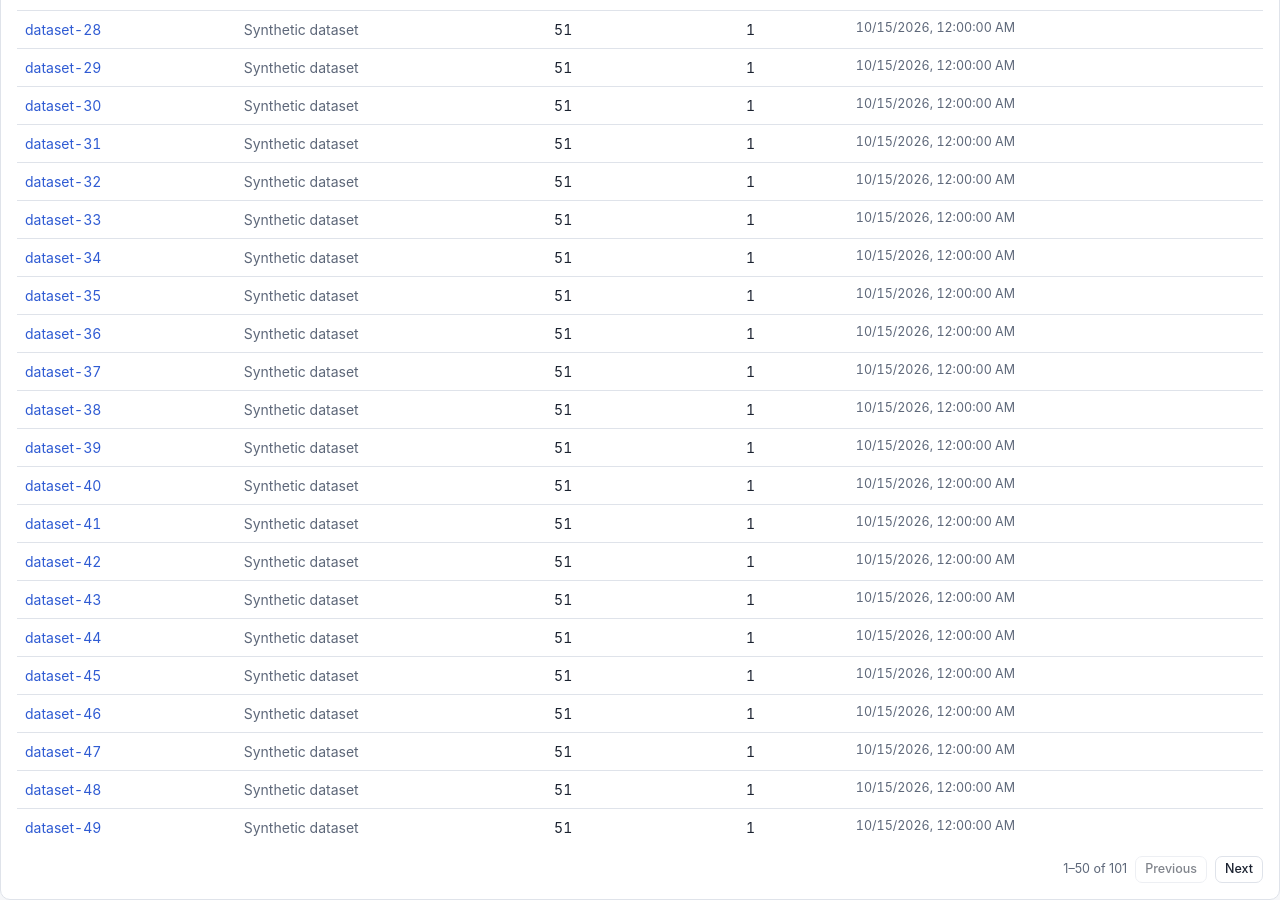
Scenario: datasets pagination › uses bounded pages with Previous/Next and keeps dataset navigation links
This screenshot has width=1280, height=900.
(page scrolled)
Check: the text "1–50 of 101" is shown, box [1063,860,1127,879]
Click the button with aria-label "Next page".
click(1239, 870)  # box [1215,856,1263,883]
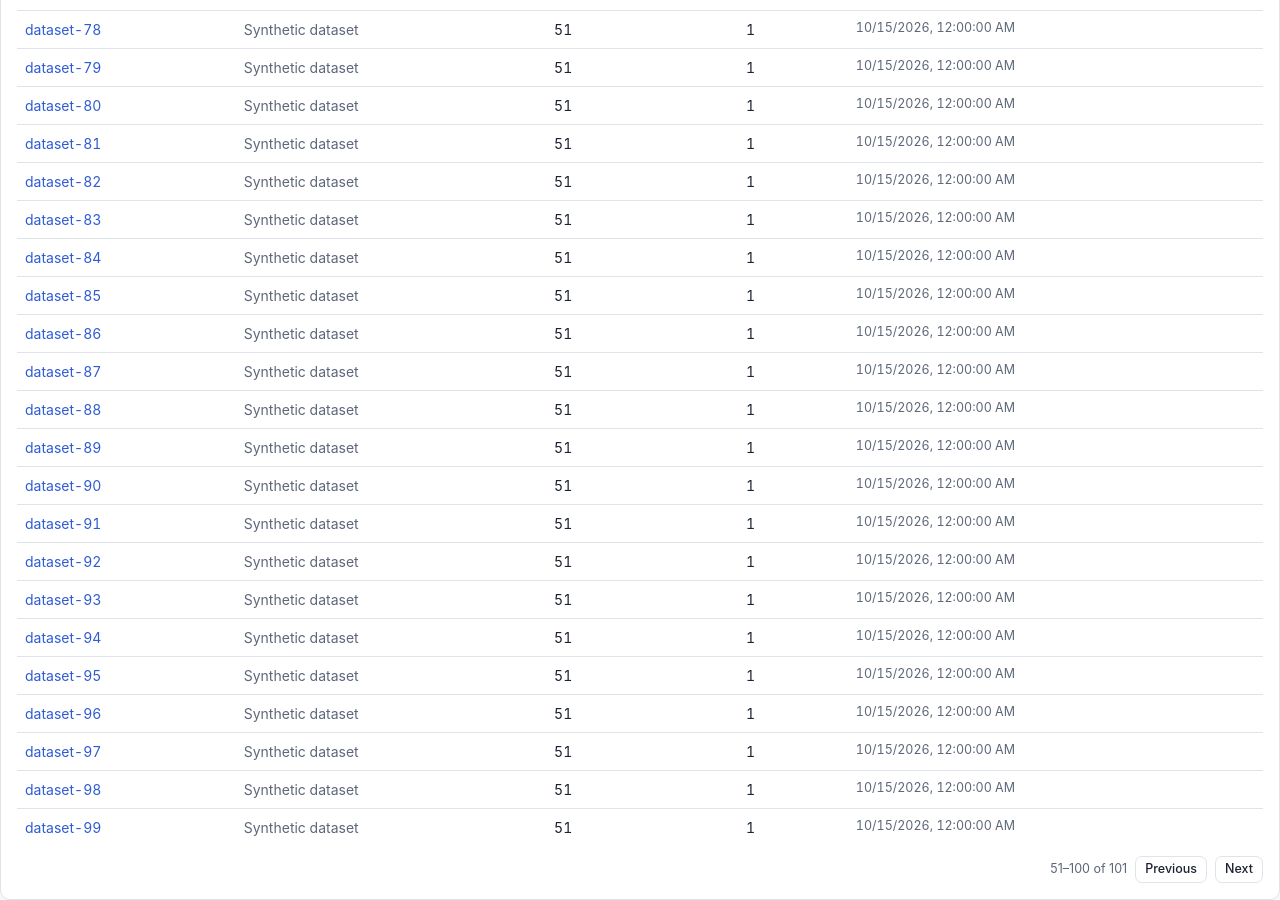
Check: the text "51–100 of 101" is shown, box [1050,860,1127,879]
Click the button with aria-label "Next page".
click(1239, 870)  # box [1215,856,1263,883]
(page scrolled)
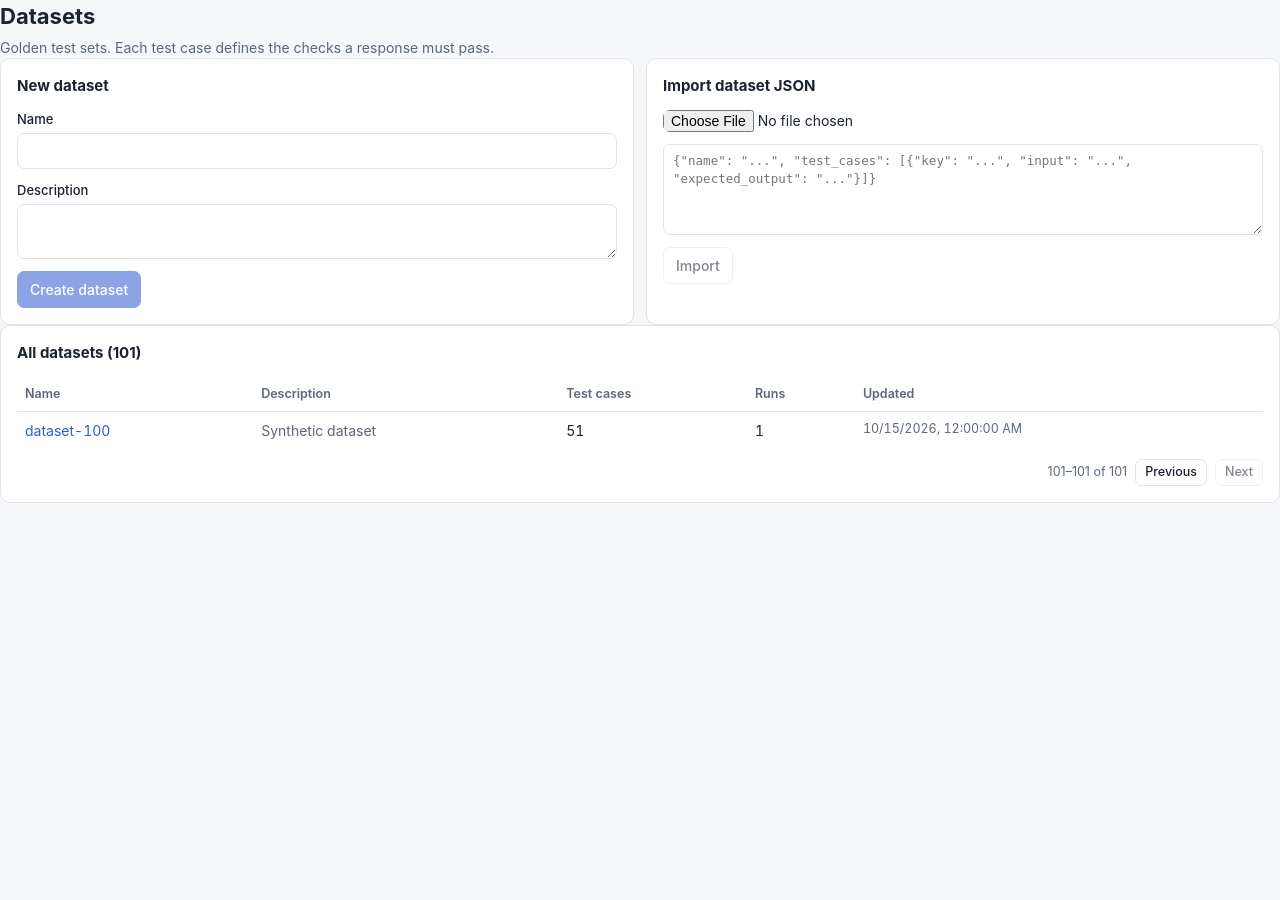
Check: the link "dataset-100" is shown, box [25,422,110,439]
Check: the text "101–101 of 101" is shown, box [1048,463,1127,482]
Check: the button with aria-label "Next page" is disabled, box [1215,459,1263,486]
Click the button with aria-label "Previous page".
click(1171, 473)  # box [1135,459,1207,486]
(page scrolled)
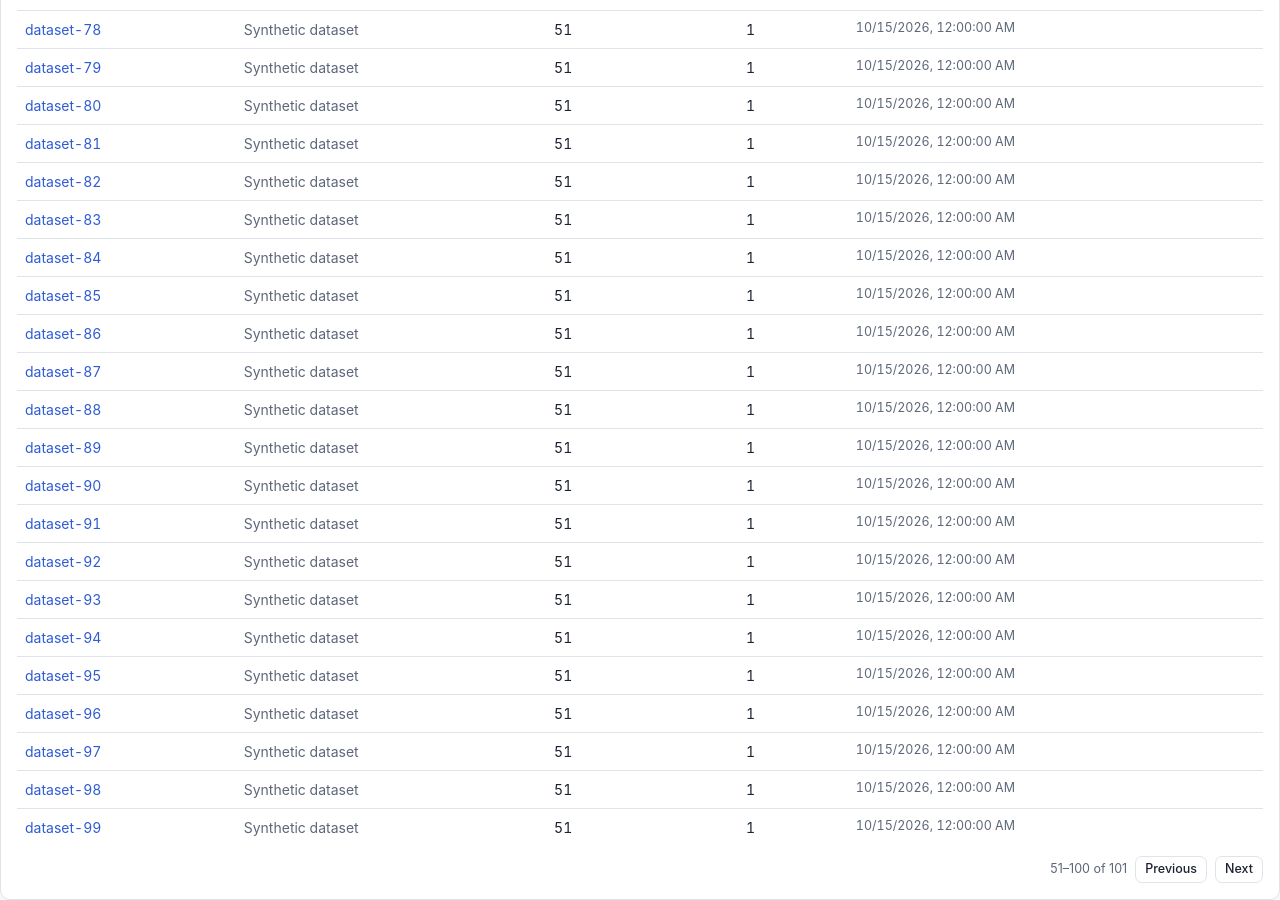
Click the button with aria-label "Previous page".
click(1171, 870)  # box [1135,856,1207,883]
(page scrolled)
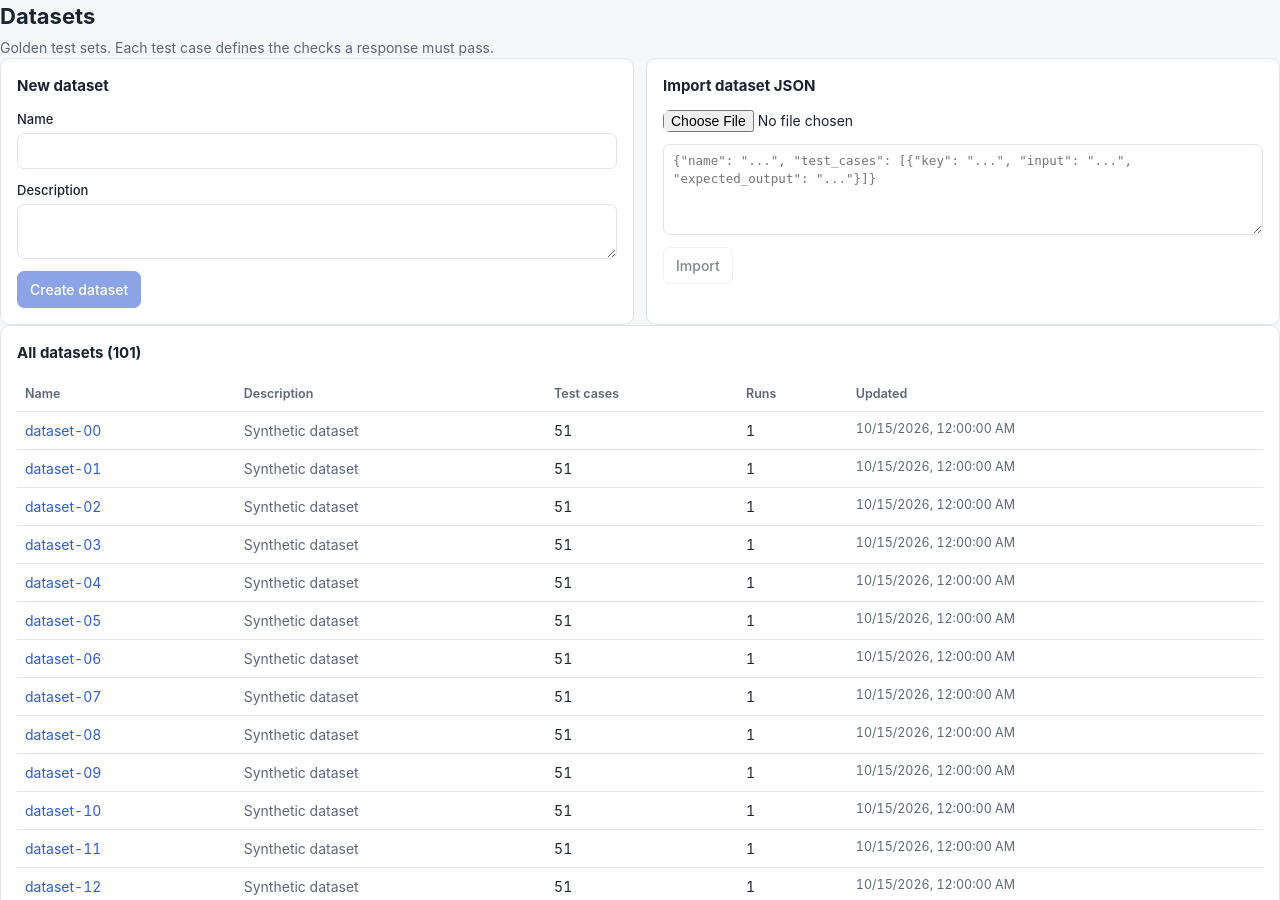
Check: the link "dataset-00" is shown, box [25,422,101,439]
